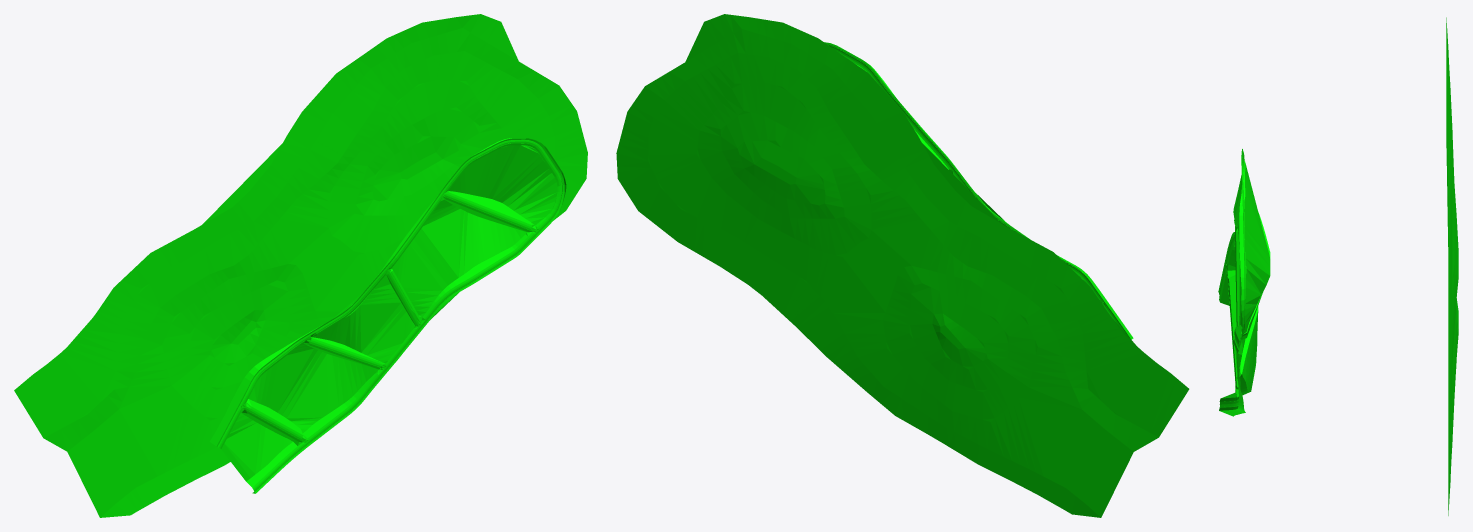
File: subdivision.gltf
3 renders of one model, left to right at view 1: azimuth 30°, elevation 25°; view 2: azimuth 150°, elevation 25°; view 3: azimuth 270°, elevation 25°, orthographic. The views are drawn at different scales.
Visible parts, largest first — view 1: LandXML Surface :EG, LandXML Surface :FG; view 2: LandXML Surface :EG, LandXML Surface :FG; view 3: LandXML Surface :FG, LandXML Surface :EG.
Boxes of the visible parts, <box> form: LandXML Surface :EG: <box>14,14,587,517</box>; LandXML Surface :FG: <box>209,138,566,493</box>; LandXML Surface :EG: <box>616,14,1189,517</box>; LandXML Surface :FG: <box>824,42,1133,339</box>; LandXML Surface :FG: <box>1218,149,1270,416</box>; LandXML Surface :EG: <box>1446,17,1458,515</box>.
Bounding box in the file's own units: 1539 × 1081 × 358.
